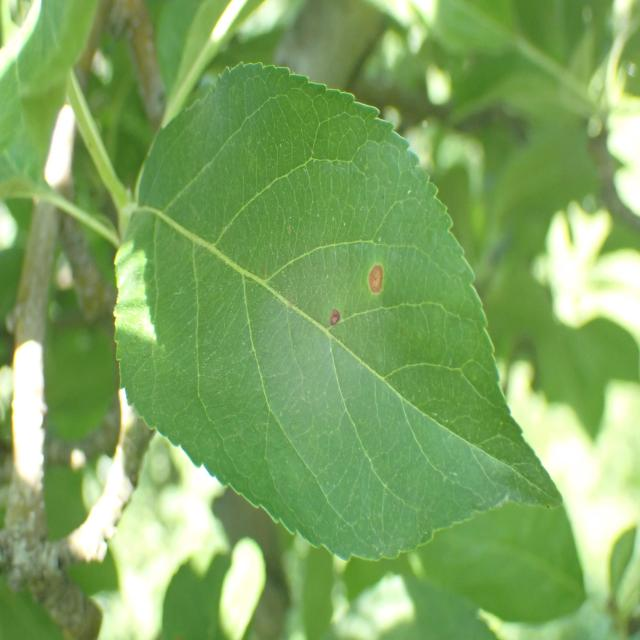Black Rot: (361, 257, 399, 315), (317, 290, 346, 352)
